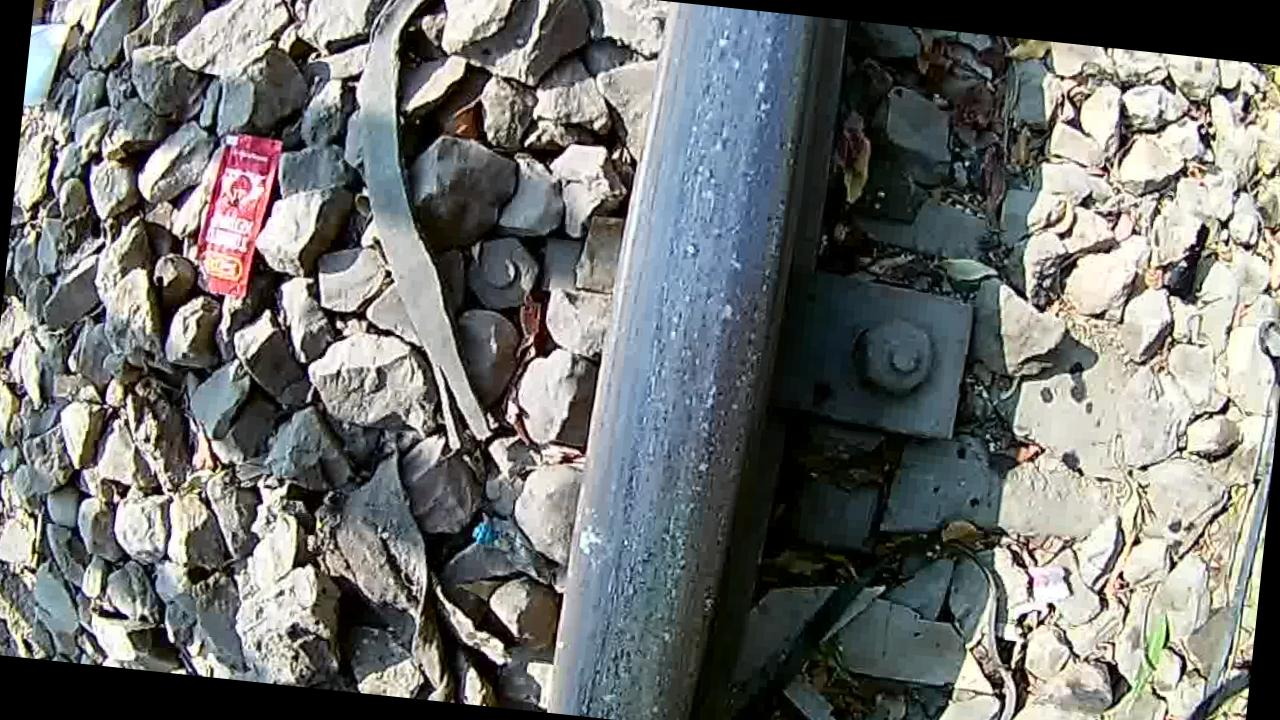clip_missing: (564, 0, 829, 720)
